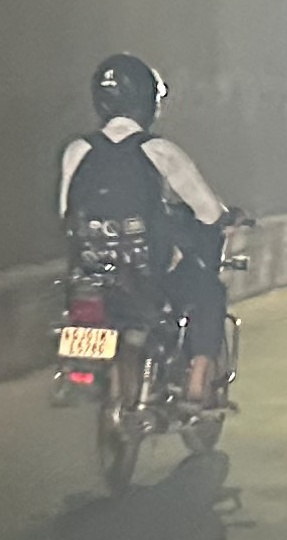BikeWithRider: (39, 46, 262, 505)
Helmet: (84, 49, 173, 136)
